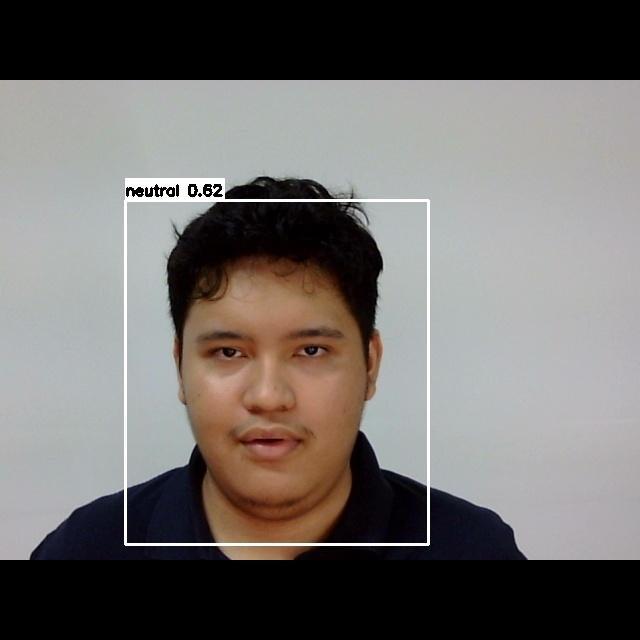Surprised: (181, 300, 376, 481)
